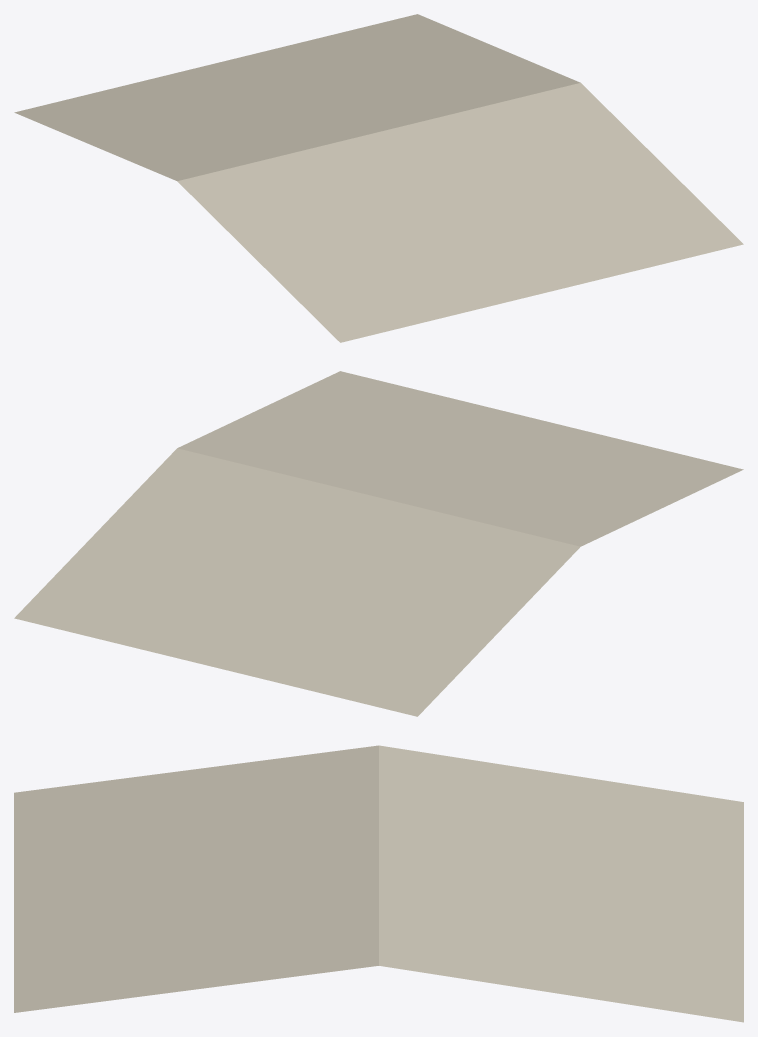
Rendered from note_code_low.glb.
3 views of the same model, one above another, from view 1: azimuth 30°, elevation 25°; view 2: azimuth 150°, elevation 25°; view 3: azimuth 270°, elevation 25° (orthographic). The views are drawn at different scales.
Parts seen in each view (by area): view 1: note_code; view 2: note_code; view 3: note_code.
Boxes of the visible parts, box(x1,y1,x2,y2) form: note_code: box(14, 14, 743, 342); note_code: box(14, 371, 743, 716); note_code: box(14, 745, 743, 1022).
Bounding box in the file's own units: 0.1 × 0.012 × 0.14.
